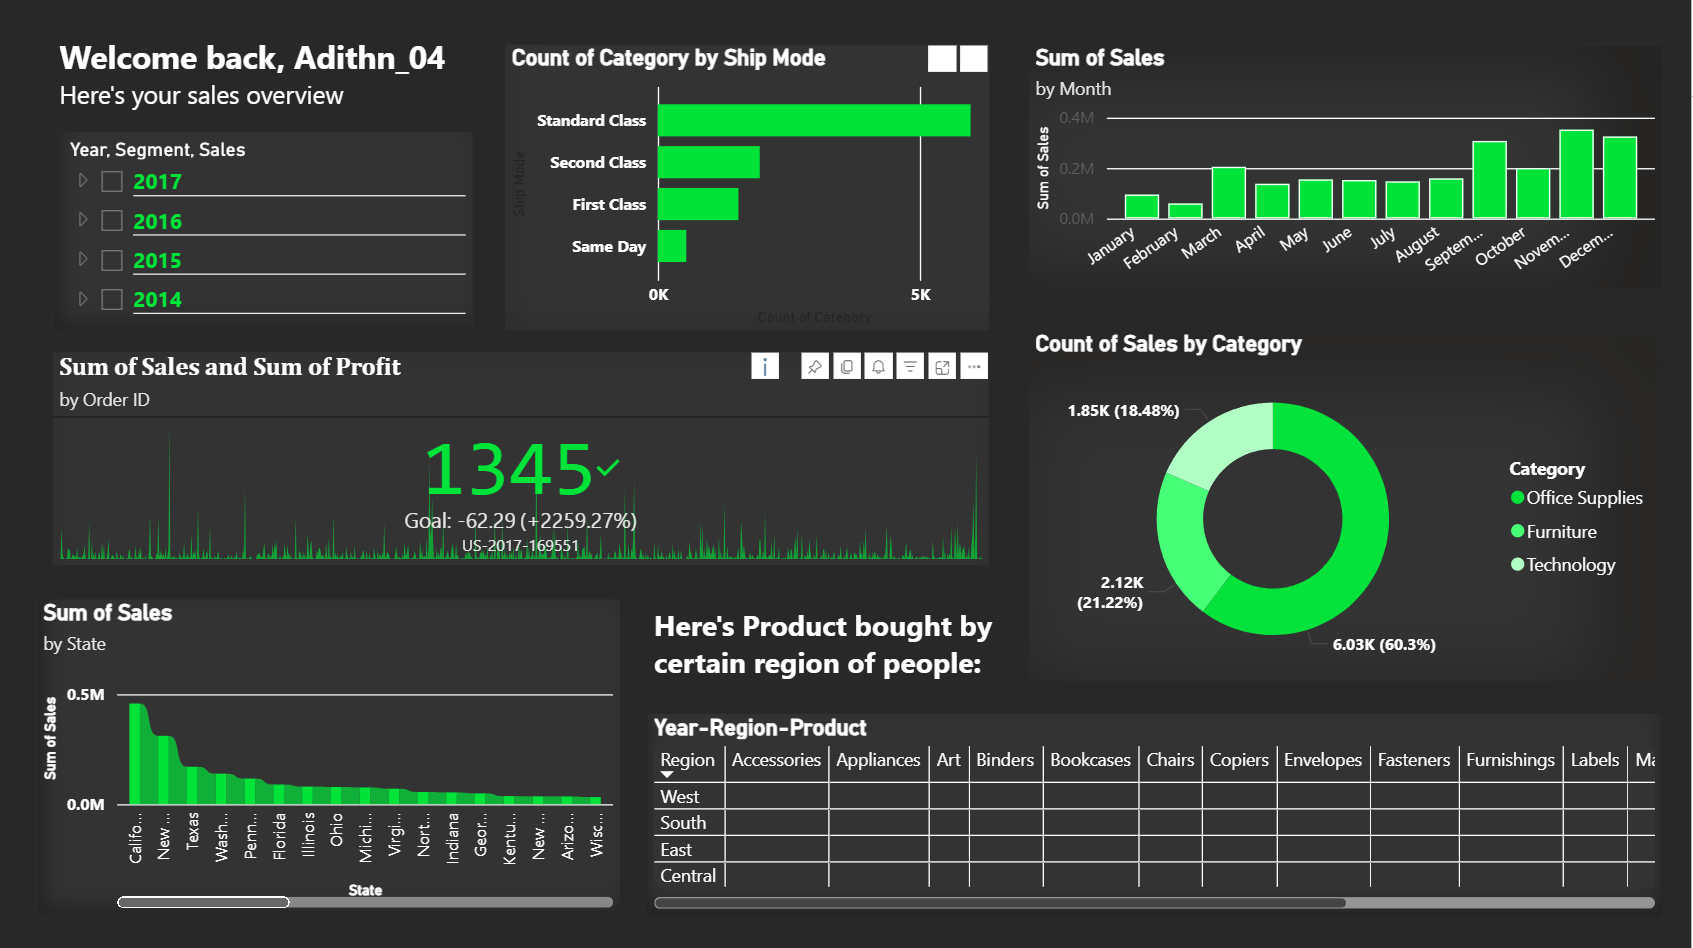

This screenshot's page, from the dashboard's own definition file:
{"tool":"powerbi","page":{"name":"Page 1","canvas":[1280,720],"ordinal":0},"visuals":[{"type":"kpi","fields":{"Indicator":["Sales Data.Sales"],"Goal":["Sales Data.Profit"],"TrendLine":["Sales Data.Order ID"]},"box":[40,266.2,708.8,161.2],"z":0},{"type":"donutChart","fields":{"Category":["Sales Data.Category"],"Y":["Sales Data.Sales"]},"box":[778.8,250,478.8,266.2],"z":1000},{"type":"columnChart","fields":{"Category":["Sales Data.Order Date.Variation.Date Hierarchy.Month"],"Y":["Sales Data.Sales"]},"box":[778.8,33.8,478.8,185],"z":2000},{"type":"pivotTable","title":"Year-Region-Product","fields":{"Rows":["Sales Data.Region"],"Columns":["Sales Data.Sub-Category"]},"box":[490,540,767.5,152.5],"z":3000},{"type":"slicer","fields":{"Values":["Sales Data.Order Date.Variation.Date Hierarchy.Year","Sales Data.Segment","Sales Data.Sales"]},"box":[40,100,317.5,150],"z":4000},{"type":"ribbonChart","fields":{"Category":["Sales Data.State"],"Y":["Sales Data.Sales"]},"box":[27.5,453.8,441.2,238.8],"z":5000},{"type":"textbox","title":"Adithyan","box":[40,21.2,342.5,87.5],"z":6000},{"type":"textbox","box":[490,453.8,270,71.2],"z":7000},{"type":"barChart","fields":{"Category":["Sales Data.Ship Mode"],"Y":["Sales Data.Category"]},"box":[382.5,33.8,366.2,216.2],"z":7001}]}

Visuals, with their boxes in screenshot pixels (x1, y1, x2, y2), scaled from the page's 1280x720 canvas onto the 1693x948 screenshot:
kpi - Sales Data.Sales x Sales Data.Profit: box(53, 350, 990, 563)
donutChart - Sales Data.Category x Sales Data.Sales: box(1030, 329, 1663, 680)
columnChart - Sales Data.Order Date.Variation.Date Hierarchy.Month x Sales Data.Sales: box(1030, 45, 1663, 288)
"Year-Region-Product" pivotTable: box(648, 711, 1663, 912)
slicer - Sales Data.Order Date.Variation.Date Hierarchy.Year x Sales Data.Segment: box(53, 132, 473, 329)
ribbonChart - Sales Data.State x Sales Data.Sales: box(36, 598, 620, 912)
"Adithyan" textbox: box(53, 28, 506, 143)
textbox: box(648, 598, 1005, 691)
barChart - Sales Data.Ship Mode x Sales Data.Category: box(506, 45, 990, 329)
